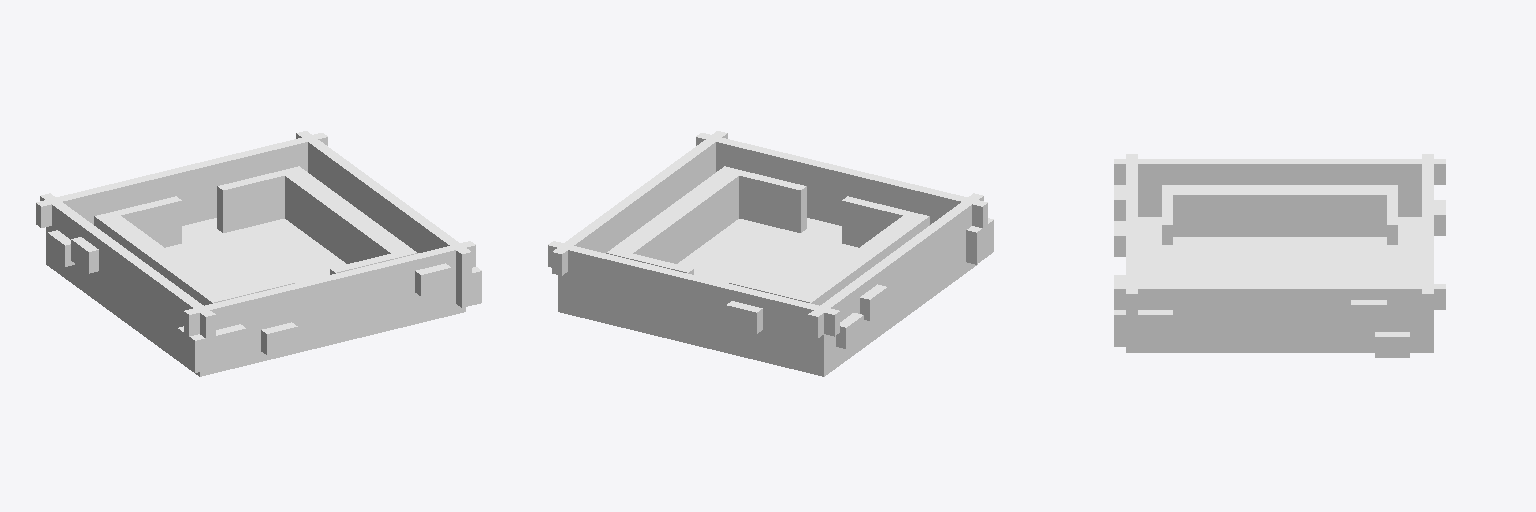
The model's file is SmallBuilding01-10.obj.
3 renders of one model, left to right at view 1: azimuth 30°, elevation 25°; view 2: azimuth 150°, elevation 25°; view 3: azimuth 270°, elevation 25°, orthographic.
Visible parts, largest first — view 1: object 1; view 2: object 1; view 3: object 1.
Part boxes in pixels (x1,y1,x2,y2): object 1: (36, 131, 481, 376); object 1: (548, 131, 993, 376); object 1: (1114, 154, 1445, 357).
Bounding box in the file's own units: 2.8 × 0.6 × 2.8.